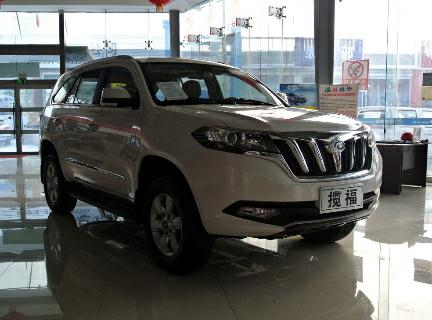福迪-揽福: (34, 54, 391, 276)
